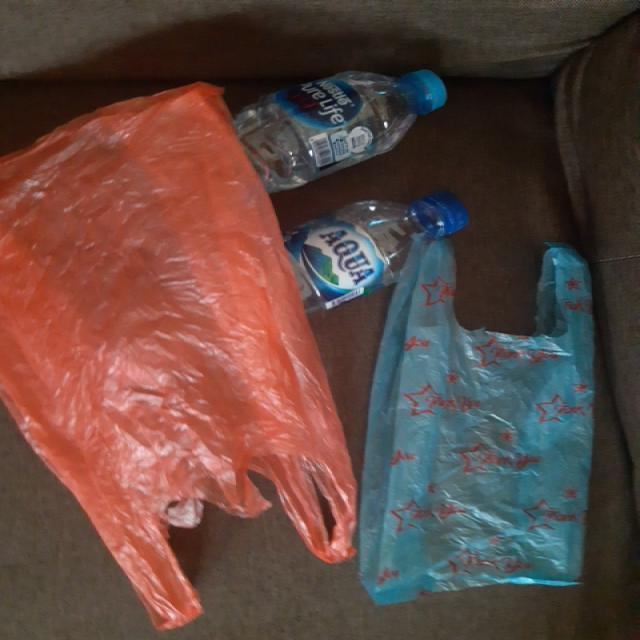PET Bottle: (186, 30, 458, 193), (259, 181, 491, 322)
